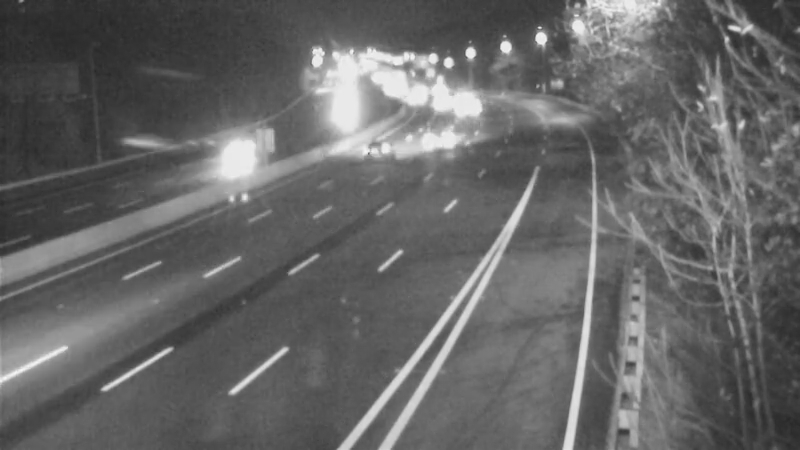vehicle: (409, 62, 459, 112), (431, 70, 481, 120), (389, 76, 439, 126), (414, 78, 464, 128), (434, 85, 484, 135), (415, 116, 465, 166), (364, 118, 414, 168), (210, 125, 260, 175)
